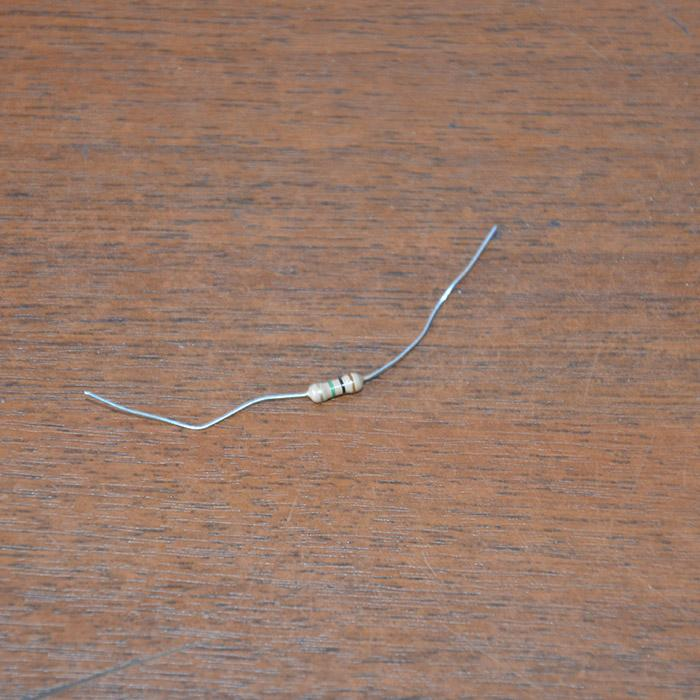resistor: (307, 372, 365, 403)
